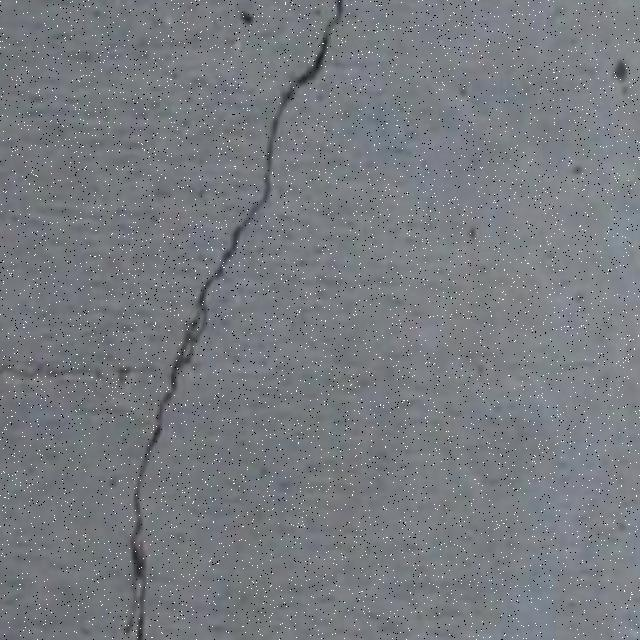Crack: (114, 0, 362, 640)
